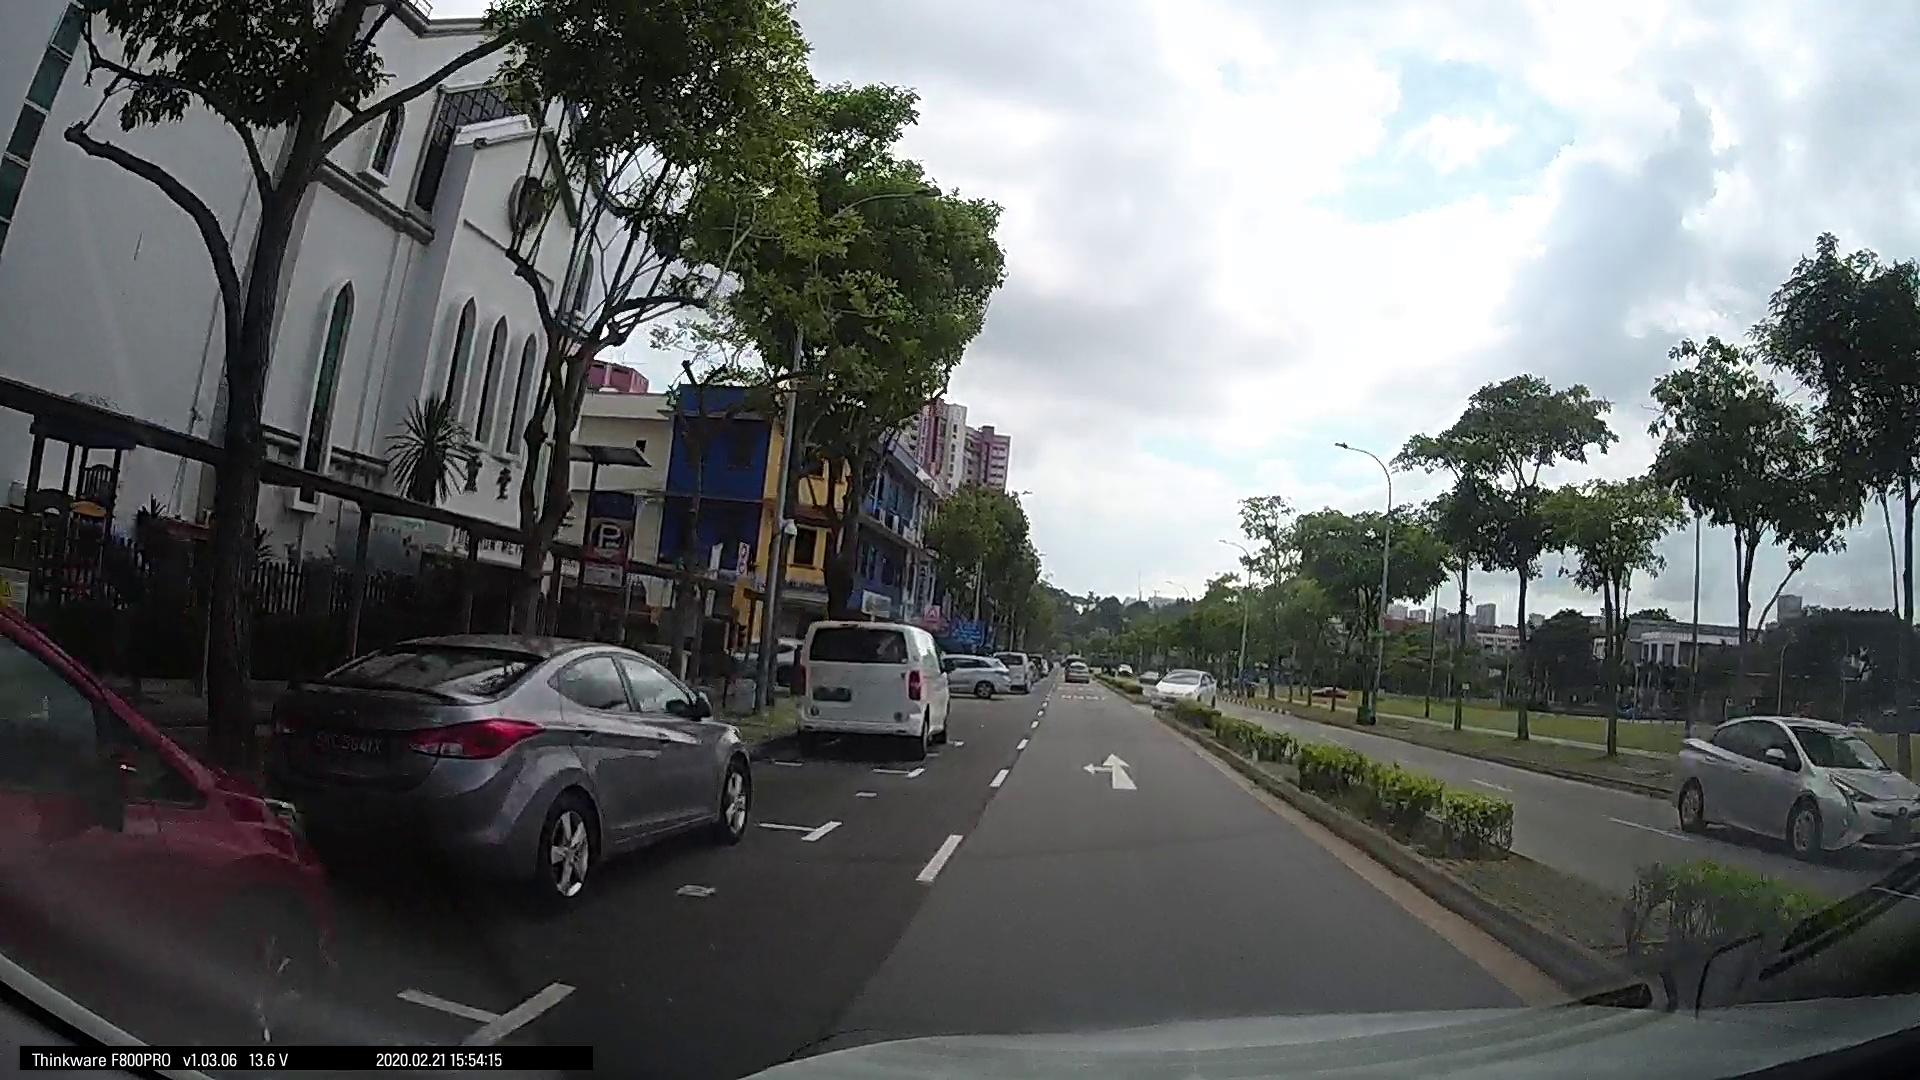Heavy Vehicle: (832, 618, 955, 729)
Light Vehicle: (3, 636, 524, 986), (389, 633, 765, 876), (1538, 665, 1788, 831), (1432, 682, 1548, 783), (1358, 687, 1440, 764), (1160, 651, 1224, 709), (1030, 655, 1075, 696), (957, 649, 996, 688)
